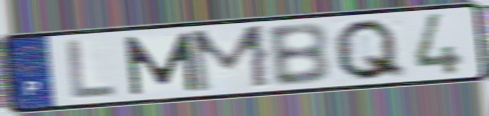4: (411, 10, 468, 78)
B: (263, 21, 334, 88)
L: (64, 37, 119, 100)
M: (186, 22, 274, 95), (121, 30, 201, 98)
Q: (330, 16, 410, 83)
